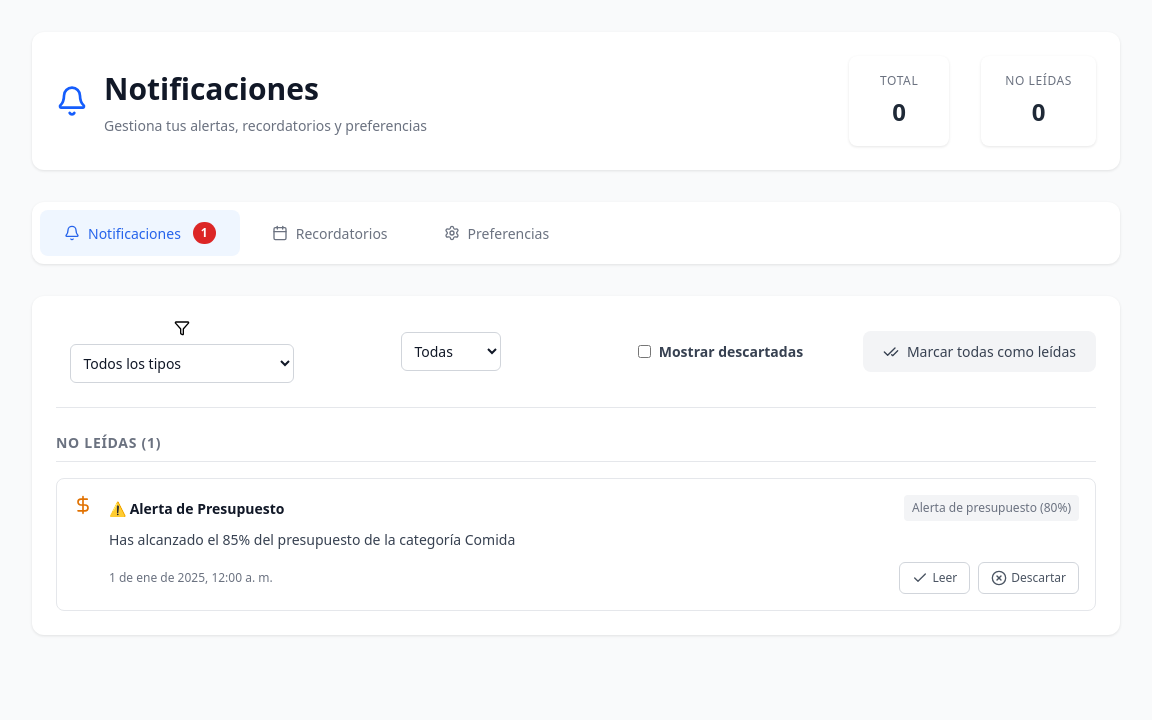
Test case: Notifications Page › debe mostrar notificaciones descartadas cuando el checkbox está marcado
Click the checkbox labelled "Mostrar descartadas". click: [644, 352]
box: [638,345,651,358]
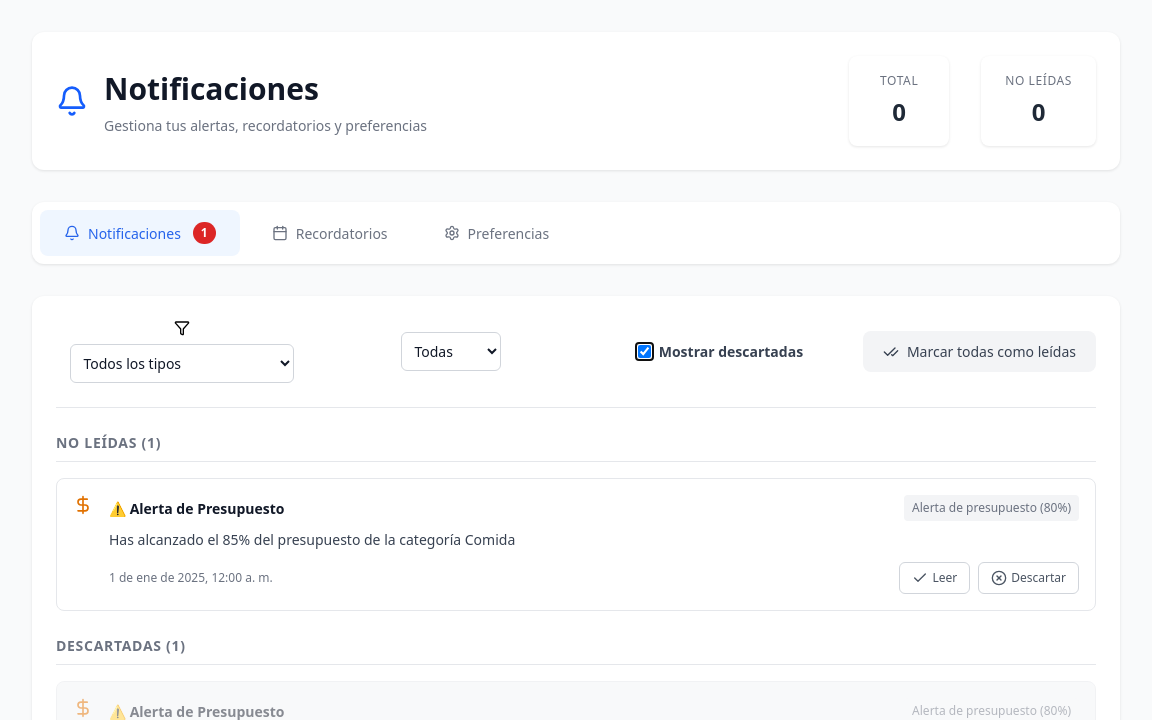
expect the heading "Descartadas (1)" is shown: met, box [56,635,1096,665]
